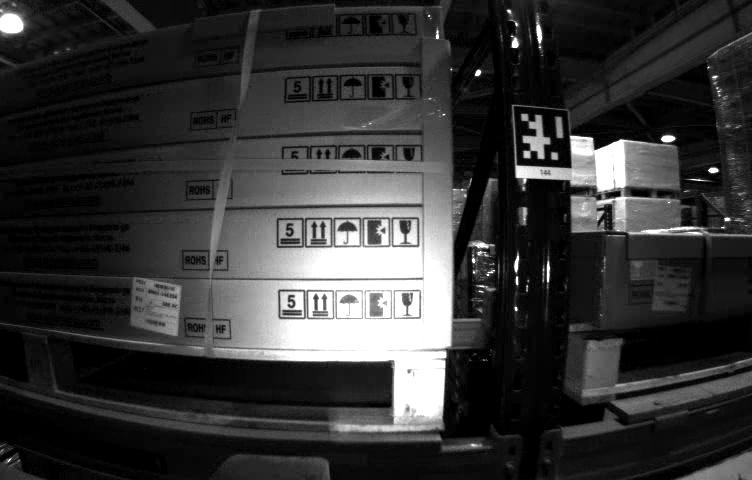True Barcode: (131, 277, 180, 337)
